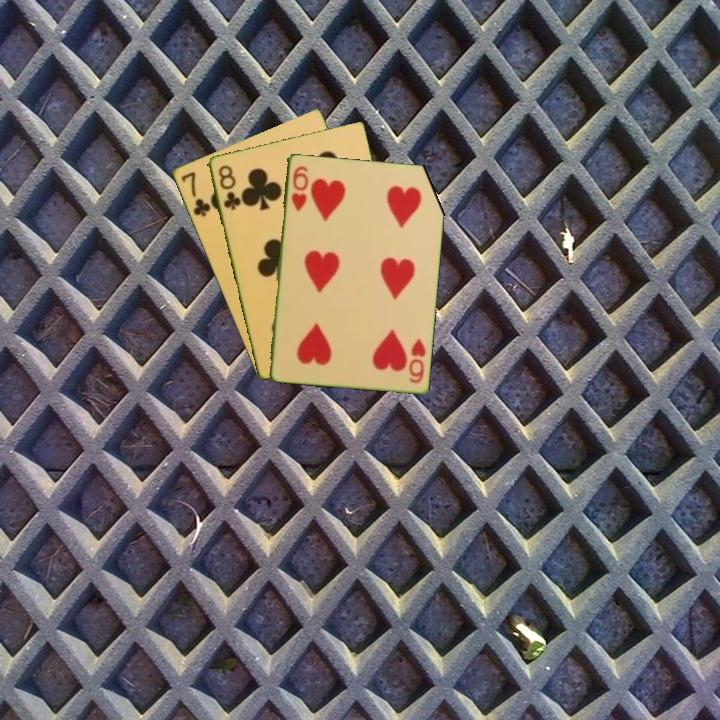6h: (287, 162, 311, 214), (405, 335, 428, 386)
7c: (177, 168, 213, 219)
8c: (214, 161, 243, 213)
